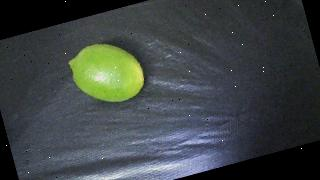LOCAL: (65, 34, 148, 112)
